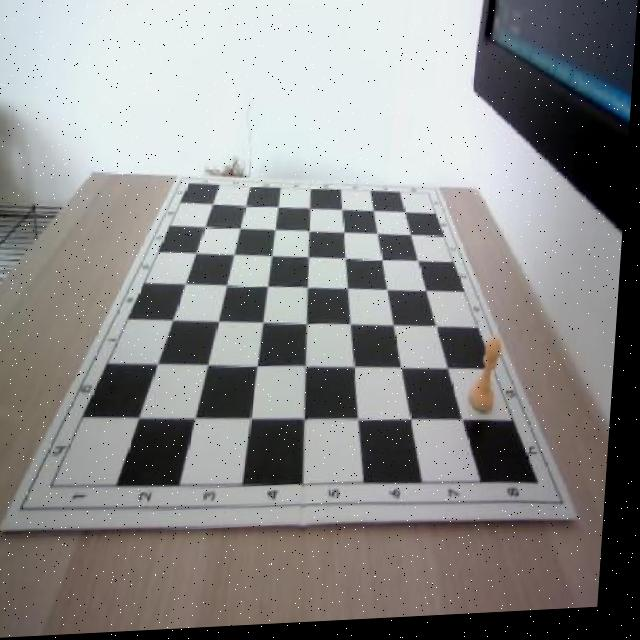white-knight: (471, 341, 510, 422)
